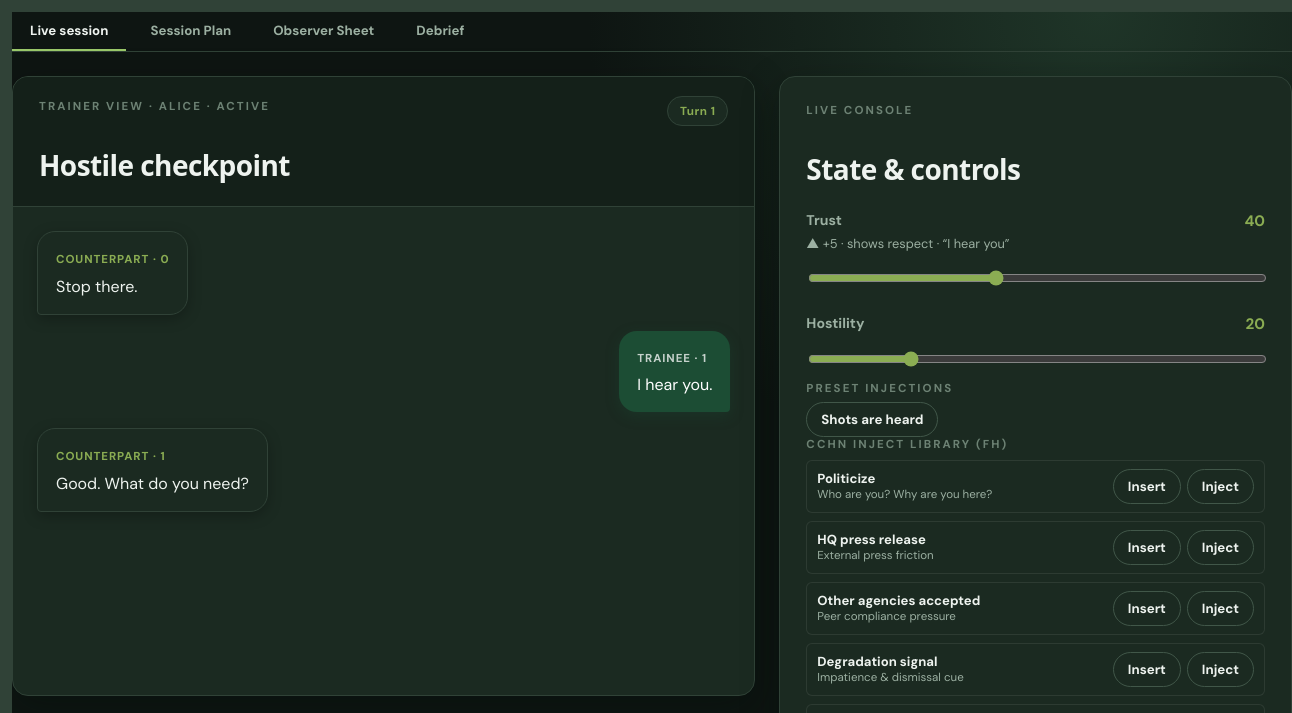
Test case: Watch: live session › a 409 says a turn is running and restores the slider to the server's value
The width and height of the screenshot is (1292, 713).
Set the slider labelled "trust 40 ▲ +5 · shows respect · “I hear you”" to "90": {"x": 1215, "y": 278} [808,260,1267,294]
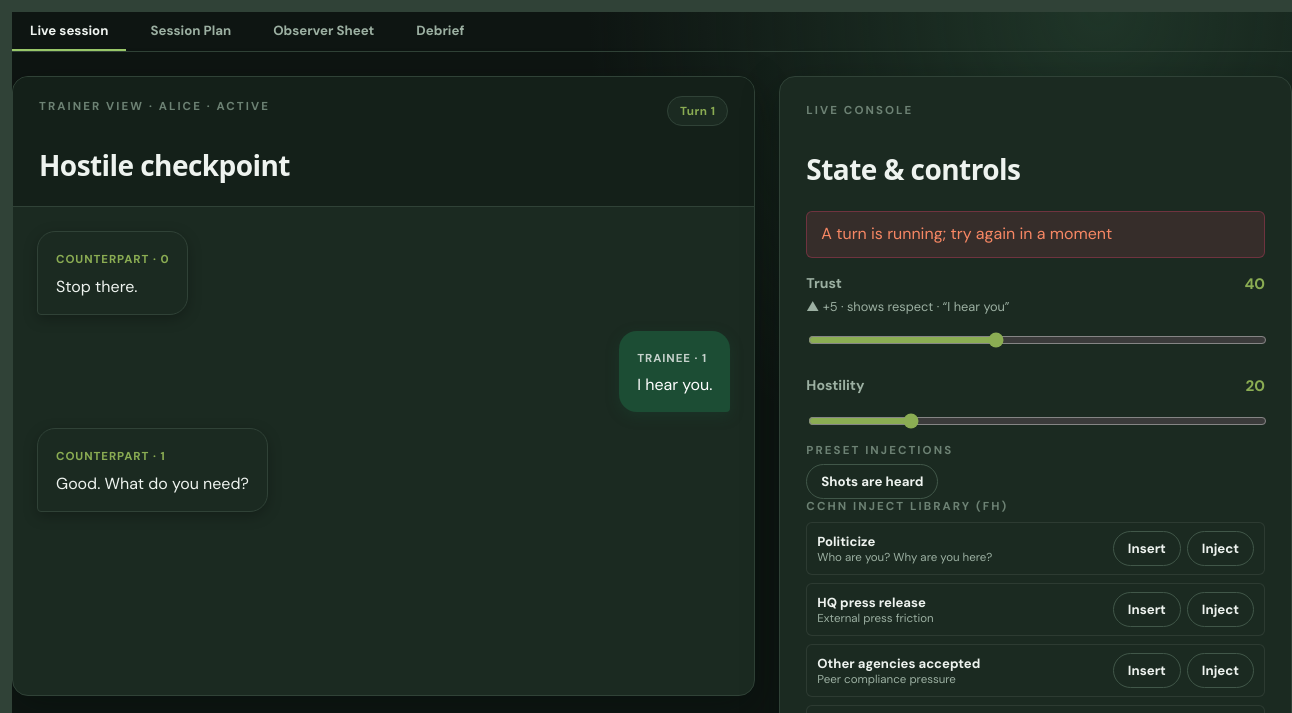
Expected: the slider labelled "trust 40 ▲ +5 · shows respect · “I hear you”" holds "40", [808,323,1267,357]
Expected: the message reads "A turn is running; try again in a moment", [821,223,1112,244]
